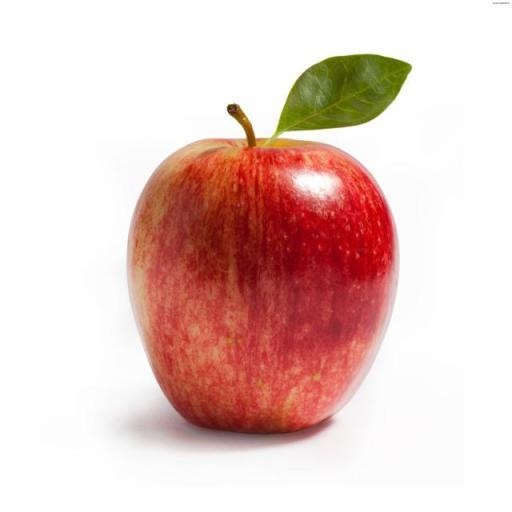fruit: (61, 124, 195, 439), (150, 62, 453, 190), (153, 56, 472, 168), (167, 50, 508, 154), (193, 49, 512, 137), (291, 89, 293, 92), (330, 79, 332, 82), (341, 112, 342, 114)
